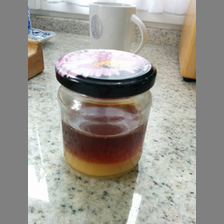honey: (53, 47, 158, 179)
